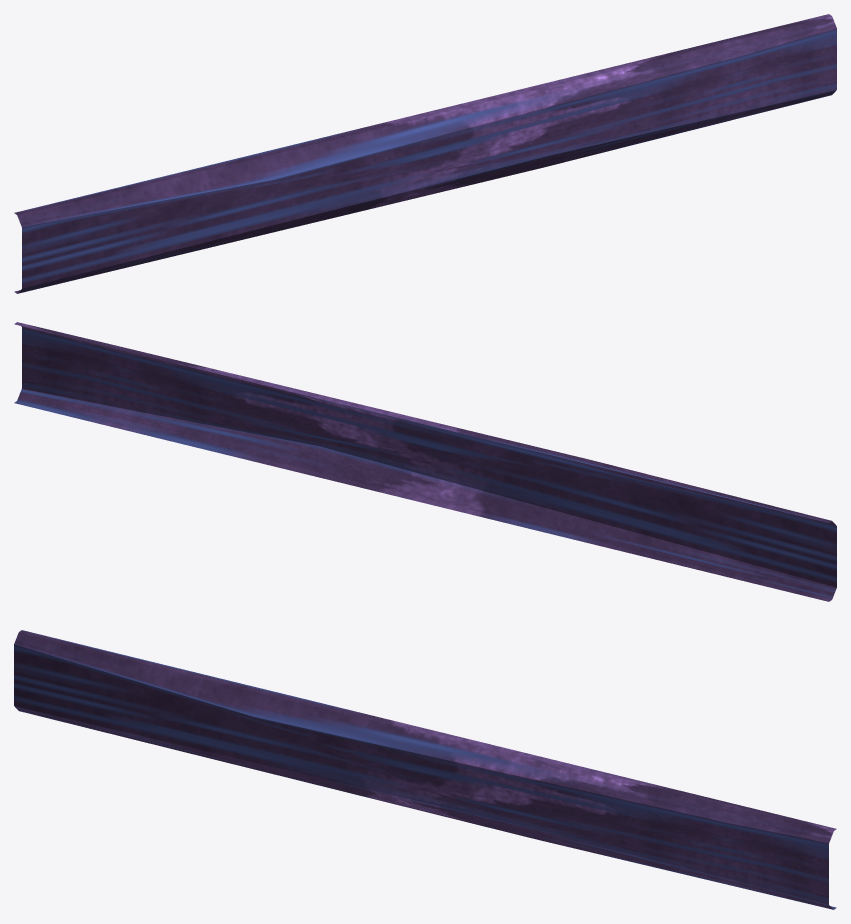
File: TempleBeam01_Art.glb
3 renders of one model, top to bottom at view 1: azimuth 30°, elevation 25°; view 2: azimuth 150°, elevation 25°; view 3: azimuth 330°, elevation 25°, orthographic.
Visible parts, largest first — view 1: TempleBeam01_Art; view 2: TempleBeam01_Art; view 3: TempleBeam01_Art.
Boxes of the visible parts, <box> form: TempleBeam01_Art: <box>14,14,836,293</box>; TempleBeam01_Art: <box>14,322,836,601</box>; TempleBeam01_Art: <box>14,630,836,909</box>.
Bounding box in the file's own units: 8 × 0.7389 × 0.2264.
1 material, 1 textured.
